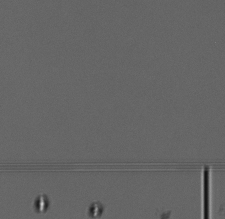Dead Cell: (86, 201, 104, 216)
Living Cell: (32, 193, 51, 214)
